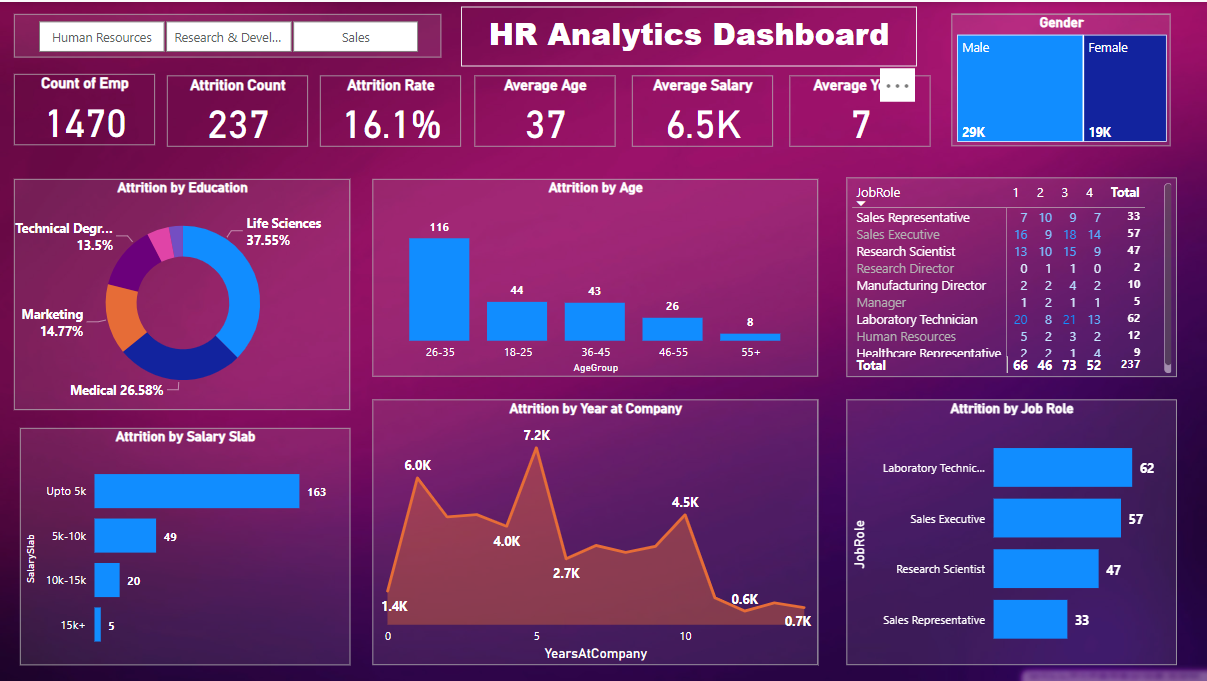

What the dashboard file says about the page in this screenshot:
{"tool":"powerbi","page":{"name":"Page 1","canvas":[1280,720],"ordinal":0},"visuals":[{"type":"card","title":"Count of Emp","fields":{"Values":["CountNonNull(HR_Analytics.EmpID)"]},"box":[15.9,77.1,149.1,75.5],"z":0},{"type":"card","title":"Attrition Rate","fields":{"Values":["HR_Analytics.Attrition_Rate"]},"box":[339.8,77.4,149.1,75.5],"z":1000},{"type":"card","title":"Average Age","fields":{"Values":["Avg(HR_Analytics.Age)"]},"box":[504.1,77.4,149.1,75.5],"z":2000},{"type":"card","title":"Average Salary","fields":{"Values":["Avg(HR_Analytics.MonthlyIncome)"]},"box":[670.2,77.4,149.1,75.5],"z":3000},{"type":"card","title":"Average Years","fields":{"Values":["Avg(HR_Analytics.YearsAtCompany)"]},"box":[838.2,77.4,149.1,75.5],"z":4000},{"type":"card","title":"Attrition Count","fields":{"Values":["Sum(HR_Analytics.Attrition_Count)"]},"box":[177.5,77.4,149.1,75.5],"z":5000},{"type":"donutChart","title":"Attrition by Education","fields":{"Y":["Sum(HR_Analytics.Attrition_Count)"],"Category":["HR_Analytics.EducationField"]},"box":[15.9,187.5,356,244.8],"z":6000},{"type":"columnChart","title":"Attrition by Age","fields":{"Category":["HR_Analytics.AgeGroup"],"Y":["Sum(HR_Analytics.Attrition_Count)"]},"box":[396.5,186.9,472,209.6],"z":7000},{"type":"pivotTable","fields":{"Rows":["HR_Analytics.JobRole"],"Columns":["HR_Analytics.JobSatisfaction"],"Values":["Sum(HR_Analytics.Attrition_Count)"]},"box":[898,186,349.7,211.4],"z":8000},{"type":"barChart","title":"Attrition by Salary Slab","fields":{"Category":["HR_Analytics.SalarySlab"],"Y":["Sum(HR_Analytics.Attrition_Count)"]},"box":[22.3,451.4,349.7,251.1],"z":9000},{"type":"barChart","title":"Attrition by Job Role","fields":{"Y":["Sum(HR_Analytics.Attrition_Count)"],"Category":["HR_Analytics.JobRole"]},"box":[898,421.2,349.7,281.3],"z":10000},{"type":"areaChart","title":"Attrition by Year at Company","fields":{"Category":["HR_Analytics.YearsAtCompany"],"Y":["Sum(HR_Analytics.Age)"]},"box":[396.5,421,472,281.3],"z":11000},{"type":"treemap","title":"Gender","fields":{"Group":["HR_Analytics.Gender"],"Values":["Sum(HR_Analytics.Age)"]},"box":[1010,13.2,232.2,139.7],"z":11001},{"type":"slicer","fields":{"Values":["HR_Analytics.Department"]},"box":[15.9,12.7,453,46.1],"z":11002},{"type":"textbox","box":[489.5,4.8,483.2,63.6],"z":11003}]}

Visuals, with their boxes in screenshot pixels (x1, y1, x2, y2), scaled from the page's 1280x720 canvas onto the 1207x681 screenshot:
"Count of Emp" card: 15,73,156,144
"Attrition Rate" card: 320,73,461,145
"Average Age" card: 475,73,616,145
"Average Salary" card: 632,73,773,145
"Average Years" card: 790,73,931,145
"Attrition Count" card: 167,73,308,145
"Attrition by Education" donutChart: 15,177,351,409
"Attrition by Age" columnChart: 374,177,819,375
pivotTable - HR_Analytics.JobRole x HR_Analytics.JobSatisfaction: 847,176,1177,376
"Attrition by Salary Slab" barChart: 21,427,351,664
"Attrition by Job Role" barChart: 847,398,1177,664
"Attrition by Year at Company" areaChart: 374,398,819,664
"Gender" treemap: 952,12,1171,145
slicer - HR_Analytics.Department: 15,12,442,56
textbox: 462,5,917,65
